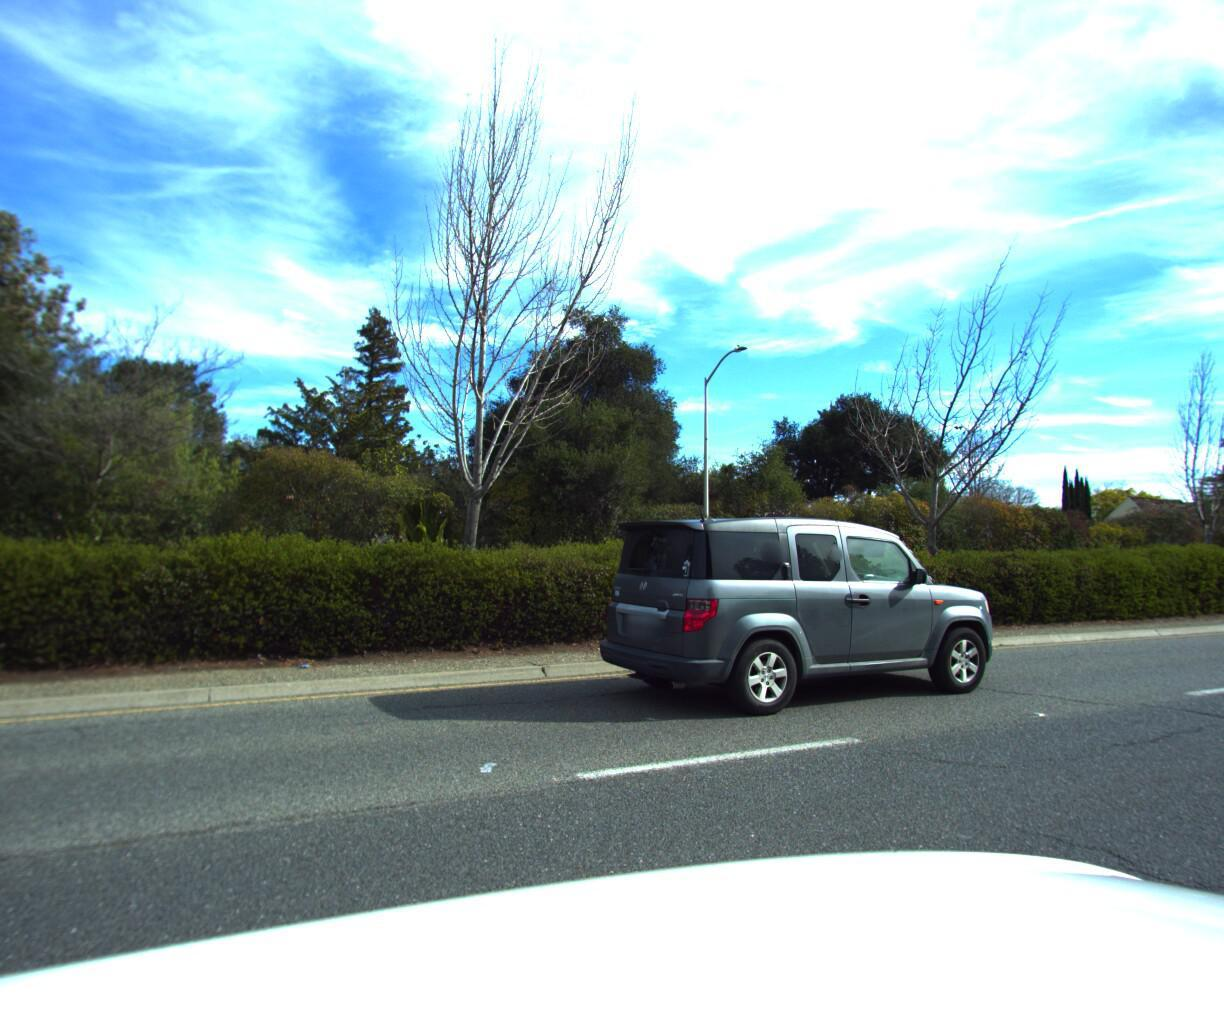car: (583, 510, 997, 722)
